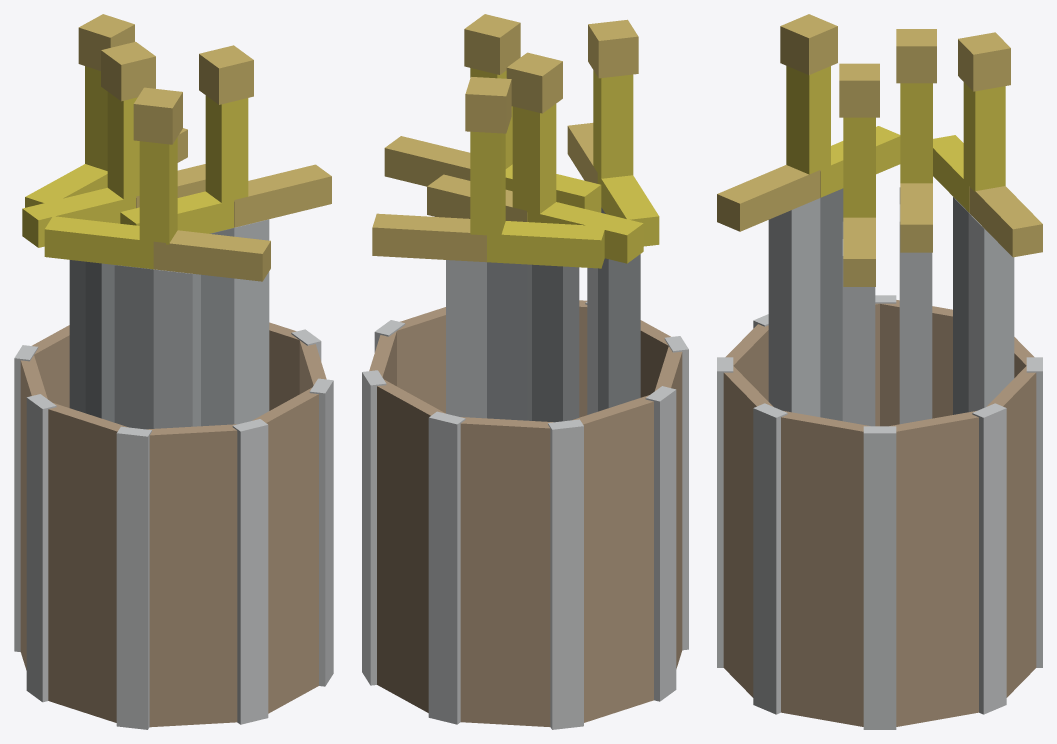
The model's file is barrelofswords.glb.
3 renders of one model, left to right at view 1: azimuth 30°, elevation 25°; view 2: azimuth 150°, elevation 25°; view 3: azimuth 270°, elevation 25°, orthographic. The views are drawn at different scales.
Visible parts, largest first — view 1: Mesh_Mesh_head_geo.001_lambert2SG.001; view 2: Mesh_Mesh_head_geo.001_lambert2SG.001; view 3: Mesh_Mesh_head_geo.001_lambert2SG.001.
Boxes of the visible parts, x1,y1,x2,y2 form: Mesh_Mesh_head_geo.001_lambert2SG.001: (14,14,333,729); Mesh_Mesh_head_geo.001_lambert2SG.001: (362,14,688,729); Mesh_Mesh_head_geo.001_lambert2SG.001: (717,14,1042,729).
Bounding box in the file's own units: 20.02 × 41.3 × 20.
